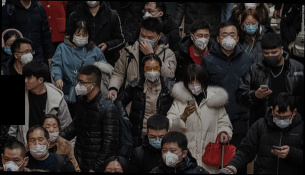mask_weared_incorrect: (42, 121, 60, 143)
with_mask: (159, 145, 182, 168), (26, 135, 48, 158), (219, 30, 238, 51), (273, 111, 294, 130), (143, 63, 162, 83), (262, 49, 283, 67), (2, 155, 25, 171), (193, 31, 211, 51), (147, 132, 168, 149), (71, 31, 90, 48), (73, 77, 89, 97), (138, 32, 158, 48), (187, 77, 204, 95), (242, 19, 260, 35), (20, 47, 34, 66), (141, 7, 159, 20), (3, 40, 14, 57)
without_mask: (22, 74, 38, 91)
